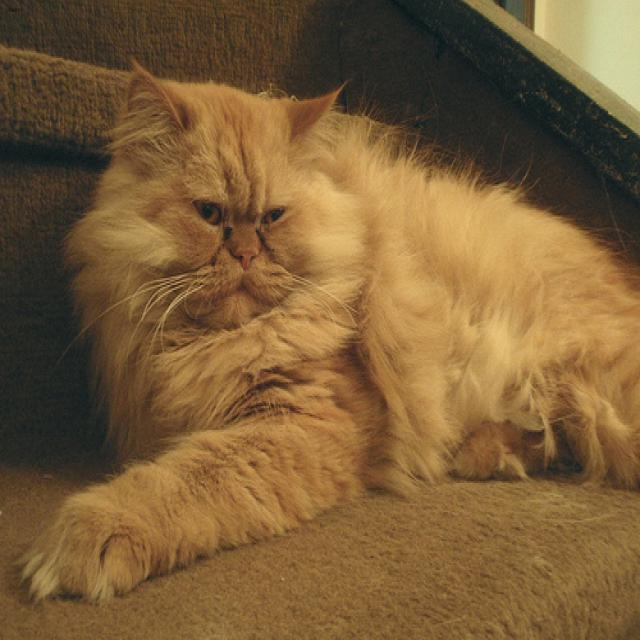Persian: (70, 62, 352, 338)
